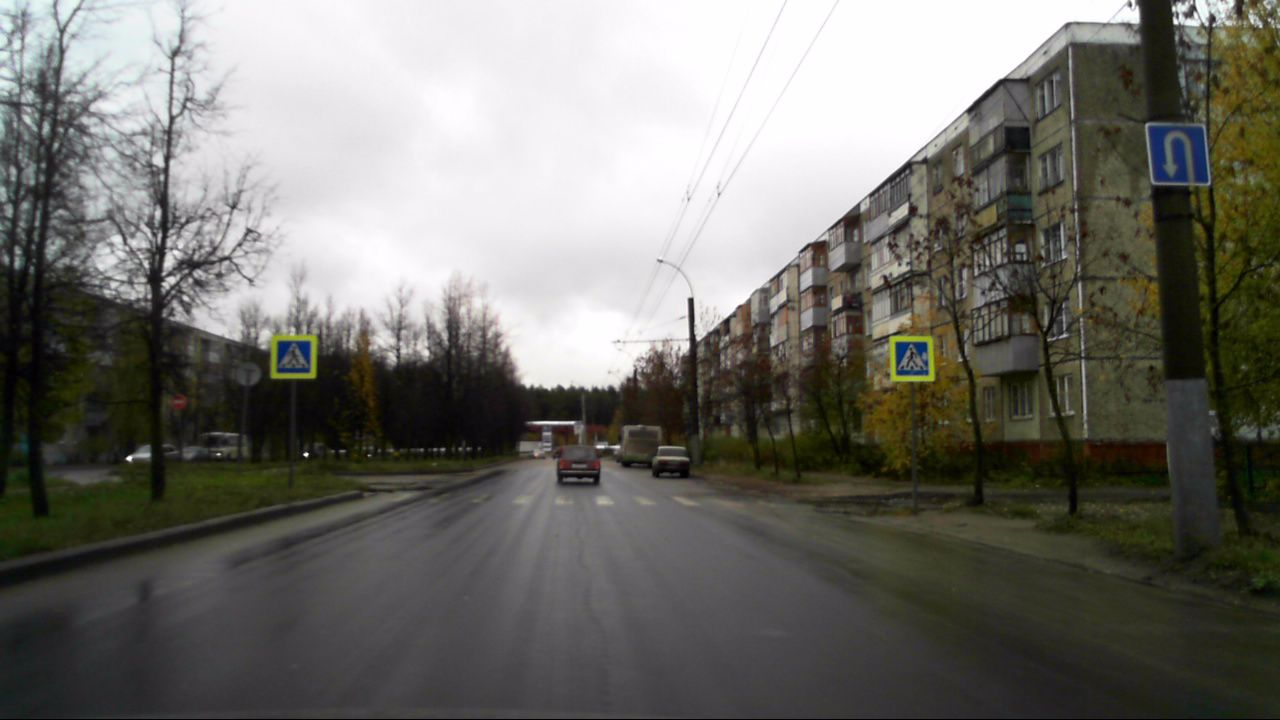Pedestrian Crossing: (895, 341, 929, 376), (277, 340, 310, 372)
U-turn: (1148, 124, 1209, 184)
